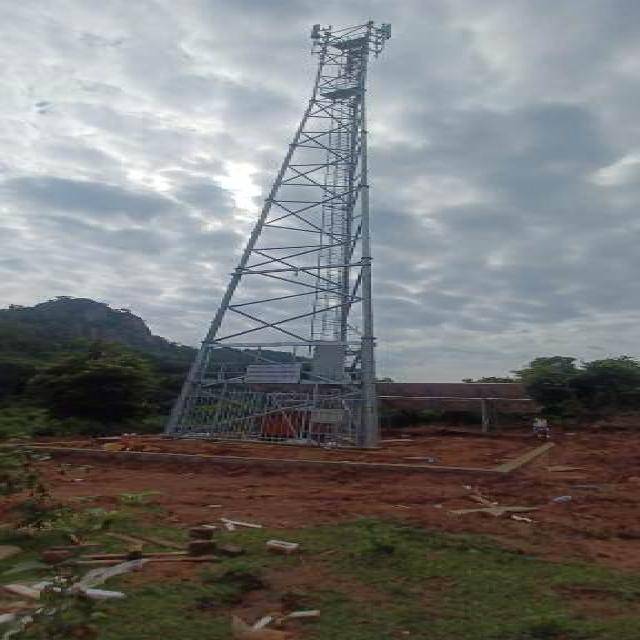GSM Antenna: (377, 23, 398, 39), (308, 22, 325, 41)
